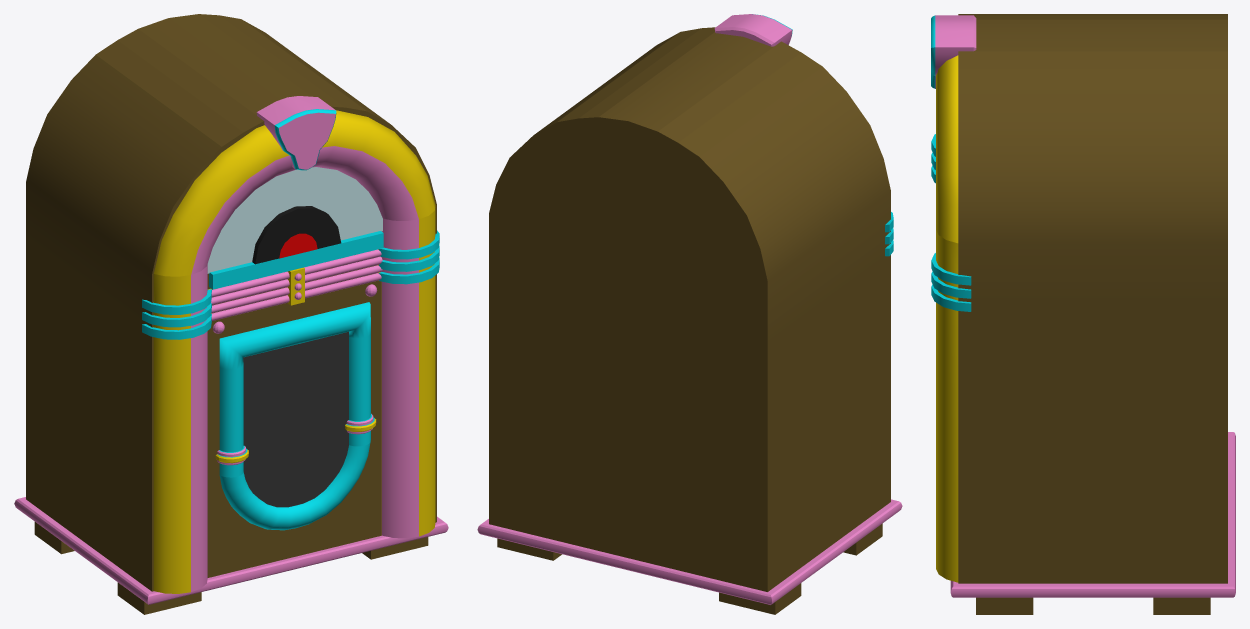
File: Jukebox_Textured_01.fbx
3 renders of one model, left to right at view 1: azimuth 30°, elevation 25°; view 2: azimuth 150°, elevation 25°; view 3: azimuth 270°, elevation 25°, orthographic. The views are drawn at different scales.
Parts seen in each view (by area): view 1: pCube1, pCylinder14, pPlane1, pCylinder19, pCylinder16, pCube4, pCube8, pCylinder17, pCylinder5, pCylinder6, pCylinder4, pCylinder7 (+3 smaller); view 2: pCube1, pCube4, pCube3, pCube7; view 3: pCube1, pCylinder14, pCube4, pCube7, pCube6.
Part boxes in pixels (<box>): pCube1: <box>14,14,448,604</box>; pCylinder14: <box>142,110,439,593</box>; pPlane1: <box>243,331,348,507</box>; pCylinder19: <box>215,302,376,530</box>; pCylinder16: <box>207,167,382,273</box>; pCube4: <box>256,96,336,170</box>; pCube8: <box>209,231,383,289</box>; pCylinder17: <box>252,206,341,264</box>; pCylinder5: <box>211,256,382,304</box>; pCylinder6: <box>211,265,382,313</box>; pCylinder4: <box>211,249,381,297</box>; pCylinder7: <box>211,273,381,320</box>; pCube1: <box>477,27,902,604</box>; pCube4: <box>714,14,792,46</box>; pCube3: <box>719,583,801,614</box>; pCube7: <box>497,538,561,560</box>; pCube1: <box>950,14,1235,597</box>; pCylinder14: <box>931,55,971,582</box>; pCube4: <box>931,15,976,88</box>; pCube7: <box>1153,597,1210,614</box>; pCube6: <box>976,597,1033,614</box>.
Bounding box in the file's own units: 3.17 × 4.87 × 2.6.
